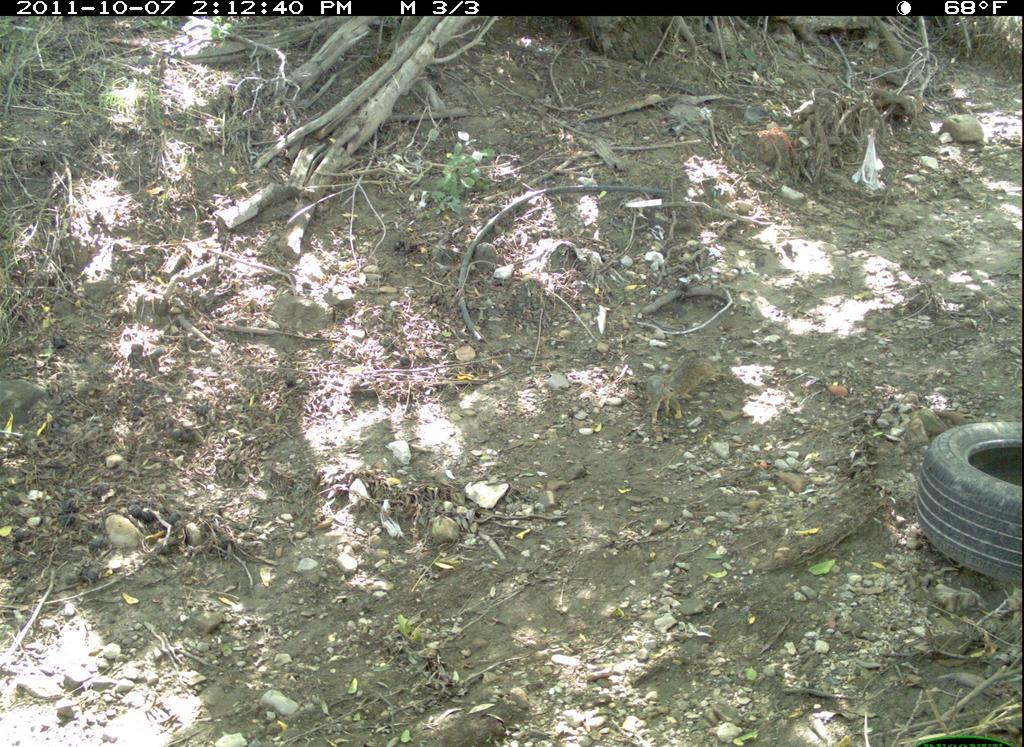squirrel: (638, 354, 722, 429)
